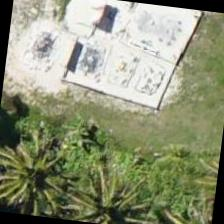Kelapa_Sawit: (0, 134, 72, 220), (55, 162, 152, 223)
